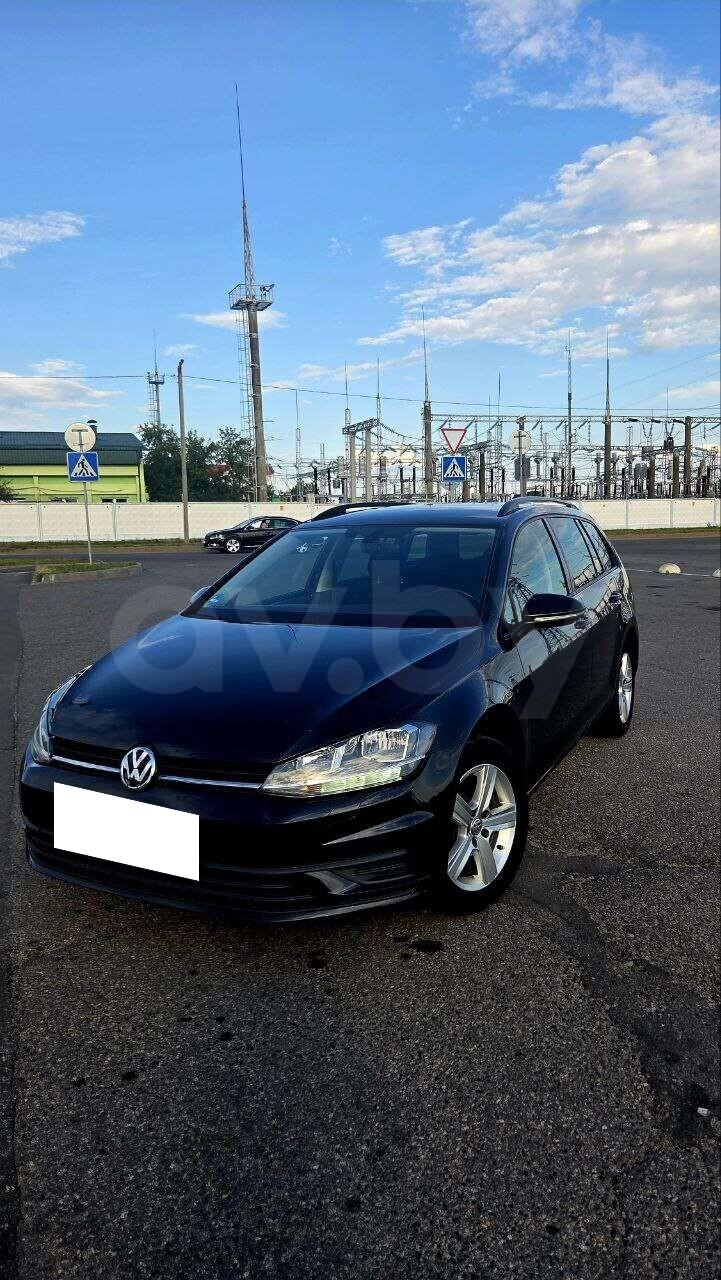Golf_2017-2021: (22, 500, 643, 917)
